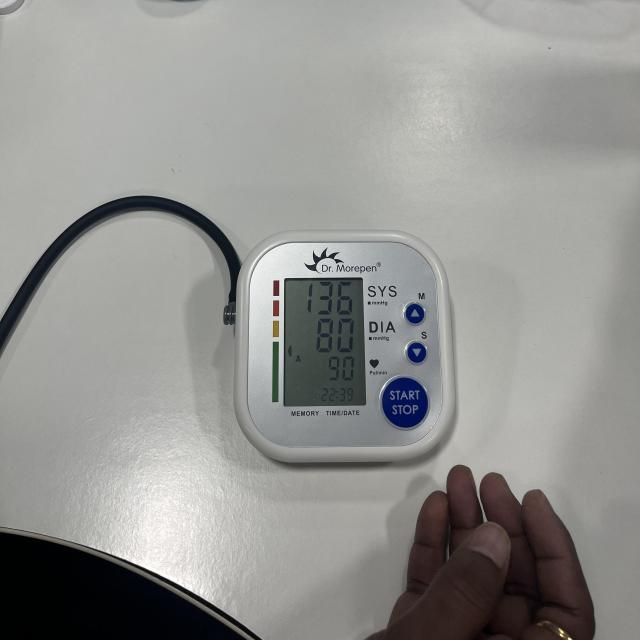bp: (234, 232, 456, 468)
